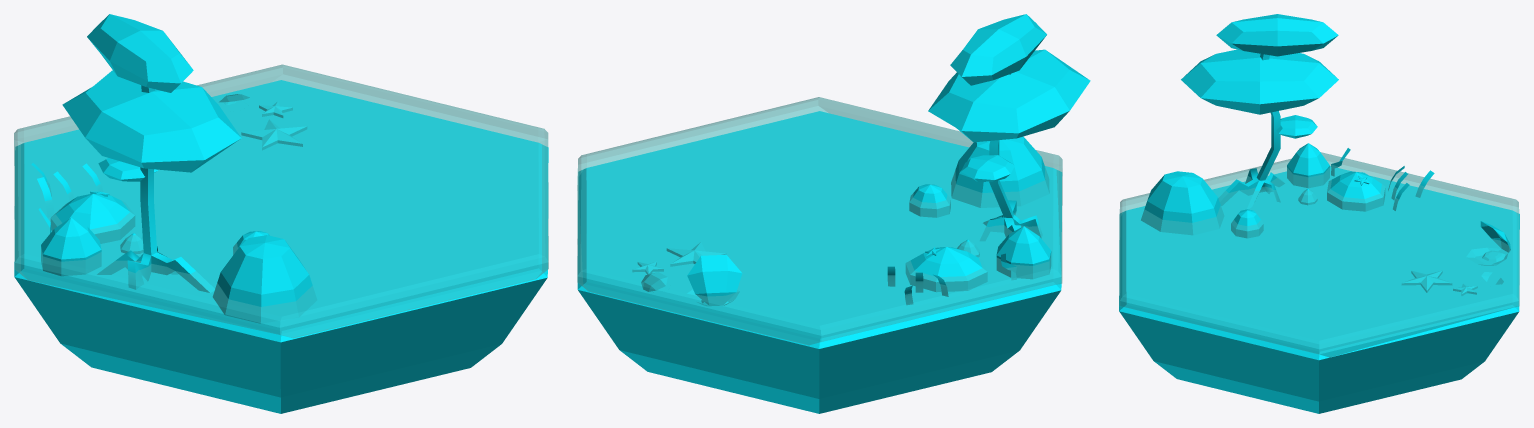
The model's file is Asset_Biome_Beach.fbx.
3 views of the same model, side by side, from view 1: azimuth 30°, elevation 25°; view 2: azimuth 150°, elevation 25°; view 3: azimuth 270°, elevation 25° (orthographic). The views are drawn at different scales.
Parts seen in each view (by area): view 1: Asset_Tile_Sand, Asset_Tile_Water, PolySurface_Tree, PolySurface_Rock_05, PolySurface_Rock_01, PolySurface_Rock_02, PolySurface_Star_02; view 2: Asset_Tile_Sand, Asset_Tile_Water, PolySurface_Tree, PolySurface_Rock_05, PolySurface_Rock_02, PolySurface_Sea_shell_01, PolySurface_Rock_01, PolySurface_Rock_04, PolySurface_Star_02; view 3: Asset_Tile_Sand, Asset_Tile_Water, PolySurface_Tree, PolySurface_Rock_05, PolySurface_Rock_02, PolySurface_Rock_01, PolySurface_Sea_shell_01, PolySurface_Rock_04, PolySurface_Star_02.
Part boxes in pixels (left/top/right/bottom): Asset_Tile_Sand: left=14, top=80, right=548, bottom=413; Asset_Tile_Water: left=14, top=64, right=548, bottom=338; PolySurface_Tree: left=62, top=14, right=241, bottom=292; PolySurface_Rock_05: left=213, top=235, right=316, bottom=323; PolySurface_Rock_01: left=41, top=217, right=101, bottom=276; PolySurface_Rock_02: left=50, top=193, right=135, bottom=243; PolySurface_Star_02: left=241, top=119, right=307, bottom=150; Asset_Tile_Sand: left=577, top=111, right=1061, bottom=413; Asset_Tile_Water: left=577, top=97, right=1062, bottom=345; PolySurface_Tree: left=928, top=14, right=1090, bottom=241; PolySurface_Rock_05: left=951, top=136, right=1049, bottom=207; PolySurface_Rock_02: left=905, top=247, right=987, bottom=292; PolySurface_Sea_shell_01: left=686, top=254, right=742, bottom=306; PolySurface_Rock_01: left=996, top=226, right=1051, bottom=279; PolySurface_Rock_04: left=909, top=184, right=950, bottom=217; PolySurface_Star_02: left=666, top=242, right=726, bottom=266; Asset_Tile_Sand: left=1119, top=166, right=1519, bottom=413; Asset_Tile_Water: left=1119, top=152, right=1519, bottom=357; PolySurface_Tree: left=1181, top=14, right=1338, bottom=208; PolySurface_Rock_05: left=1141, top=171, right=1224, bottom=235; PolySurface_Rock_02: left=1327, top=171, right=1385, bottom=211; PolySurface_Rock_01: left=1287, top=143, right=1329, bottom=188; PolySurface_Sea_shell_01: left=1465, top=221, right=1510, bottom=265; PolySurface_Rock_04: left=1231, top=209, right=1263, bottom=238; PolySurface_Star_02: left=1401, top=271, right=1452, bottom=292.
Bounding box in the file's own units: 436 × 284 × 378.
